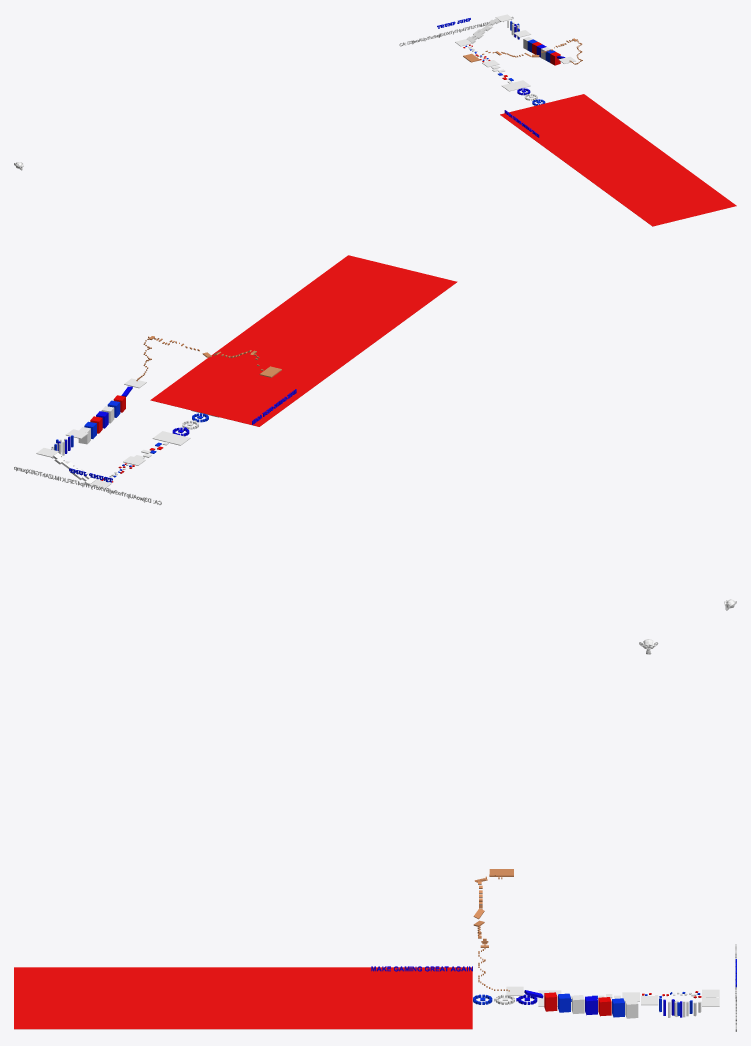
3 views of the same model, one above another, from view 1: azimuth 30°, elevation 25°; view 2: azimuth 150°, elevation 25°; view 3: azimuth 270°, elevation 25° (orthographic). The views are drawn at different scales.
Parts seen in each view (by area): view 1: Box; view 2: Box; view 3: Box.
Part boxes in pixels (left/top/right/bottom): Box: left=500, top=94, right=736, bottom=226; Box: left=150, top=255, right=457, bottom=426; Box: left=14, top=967, right=472, bottom=1029.
Bounding box in the file's own units: 3616 × 402 × 2865.
